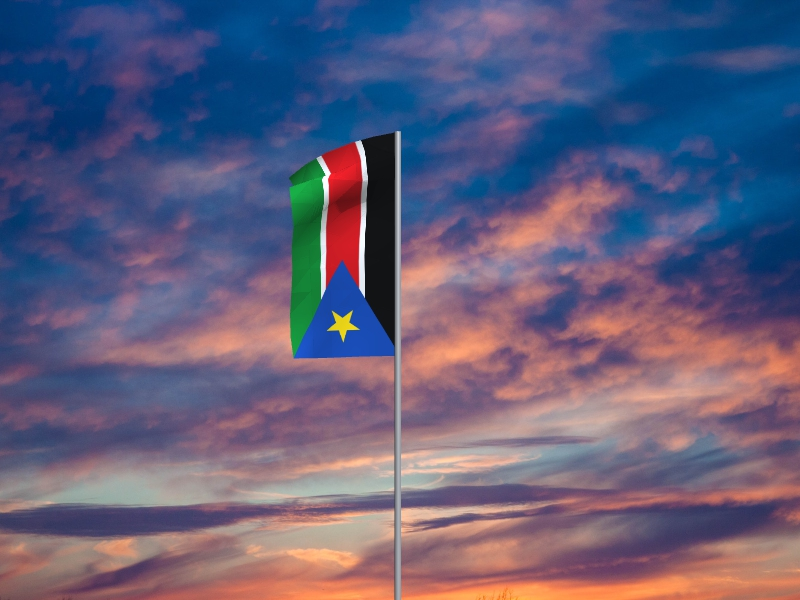ss: (288, 133, 394, 360)
